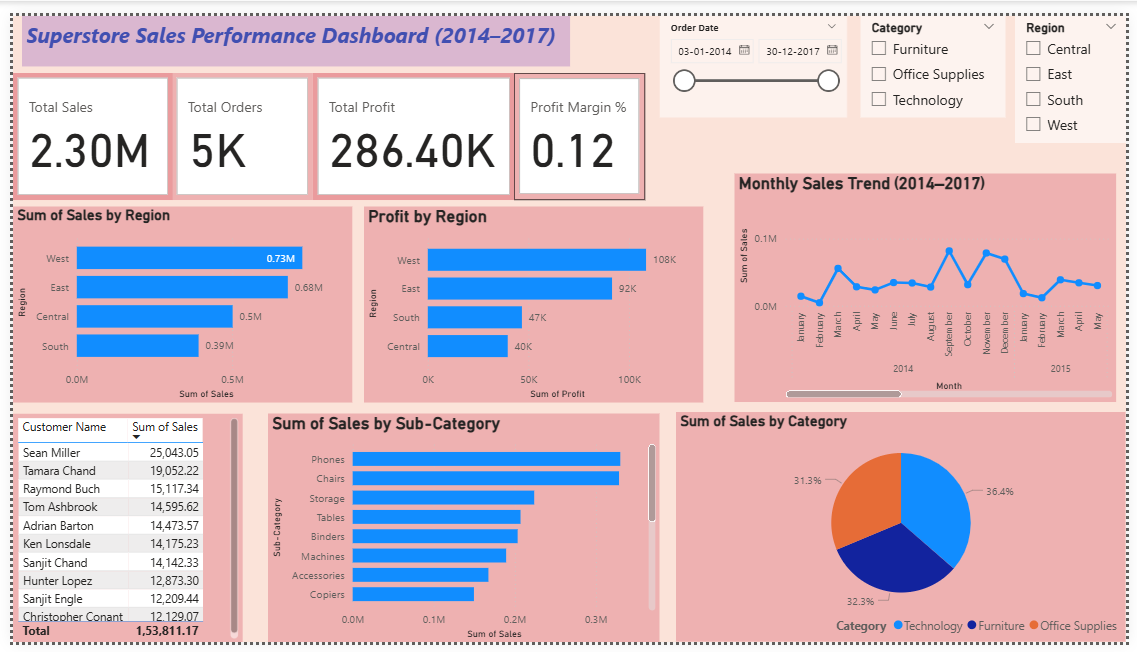

The dashboard page shown, as its layout file describes it:
{"tool":"powerbi","page":{"name":"Page 1","canvas":[1280,720],"ordinal":0},"visuals":[{"type":"cardVisual","fields":{"Data":["Superstore.Total Sales"]},"box":[0,64.8,183,145.8],"z":0},{"type":"cardVisual","fields":{"Data":["Superstore.Total Profit"]},"box":[345,64.8,231.6,145.8],"z":1000},{"type":"cardVisual","fields":{"Data":["Superstore.Total Orders"]},"box":[183,64.8,162,145.8],"z":2000},{"type":"cardVisual","fields":{"Data":["Superstore.Profit Margin %"]},"box":[576.6,64.8,150.6,145.8],"z":3000},{"type":"lineChart","title":"Monthly Sales Trend (2014–2017)","fields":{"Y":["Sum(Superstore.Sales)"],"Category":["Superstore.Order Date.Variation.Date Hierarchy.Year","Superstore.Order Date.Variation.Date Hierarchy.Month"]},"box":[829.2,181.4,438.9,262.4],"z":5000},{"type":"pieChart","fields":{"Category":["Superstore.Category"],"Y":["Sum(Superstore.Sales)"]},"box":[762.8,455.1,516.6,264],"z":6000},{"type":"tableEx","fields":{"Values":["Superstore.Customer Name","Sum(Superstore.Sales)"]},"box":[0,456.7,264,264],"z":7000},{"type":"slicer","fields":{"Values":["Superstore.Region"]},"box":[1151.3,0,129.5,145.7],"z":8000},{"type":"slicer","fields":{"Values":["Superstore.Category"]},"box":[973.4,0,166.8,116.6],"z":9000},{"type":"slicer","fields":{"Values":["Superstore.Order Date"]},"box":[743.4,0,215.4,116.6],"z":9001},{"type":"clusteredBarChart","fields":{"Category":["Superstore.Region"],"Y":["Sum(Superstore.Sales)"]},"box":[0,218.6,390.3,225.1],"z":9002},{"type":"textbox","box":[9.7,0,630,58.3],"z":9004},{"type":"clusteredBarChart","fields":{"Category":["Superstore.Sub-Category"],"Y":["Sum(Superstore.Sales)"]},"box":[293.1,456.7,450.2,264],"z":9005},{"type":"clusteredBarChart","title":"Profit by Region","fields":{"Category":["Superstore.Region"],"Y":["Sum(Superstore.Profit)"]},"box":[403.3,218.6,390.3,225.1],"z":9006}]}

Visuals, with their boxes in screenshot pixels (x1, y1, x2, y2), scaled from the page's 1280x720 canvas onto the 1137x652 screenshot:
cardVisual - Superstore.Total Sales: (x1=0, y1=59, x2=163, y2=191)
cardVisual - Superstore.Total Profit: (x1=306, y1=59, x2=512, y2=191)
cardVisual - Superstore.Total Orders: (x1=163, y1=59, x2=306, y2=191)
cardVisual - Superstore.Profit Margin %: (x1=512, y1=59, x2=646, y2=191)
"Monthly Sales Trend (2014–2017)" lineChart: (x1=737, y1=164, x2=1126, y2=402)
pieChart - Superstore.Category x Sum(Superstore.Sales): (x1=678, y1=412, x2=1136, y2=651)
tableEx - Superstore.Customer Name x Sum(Superstore.Sales): (x1=0, y1=414, x2=235, y2=651)
slicer - Superstore.Region: (x1=1023, y1=0, x2=1136, y2=132)
slicer - Superstore.Category: (x1=865, y1=0, x2=1013, y2=106)
slicer - Superstore.Order Date: (x1=660, y1=0, x2=852, y2=106)
clusteredBarChart - Superstore.Region x Sum(Superstore.Sales): (x1=0, y1=198, x2=347, y2=402)
textbox: (x1=9, y1=0, x2=568, y2=53)
clusteredBarChart - Superstore.Sub-Category x Sum(Superstore.Sales): (x1=260, y1=414, x2=660, y2=651)
"Profit by Region" clusteredBarChart: (x1=358, y1=198, x2=705, y2=402)
